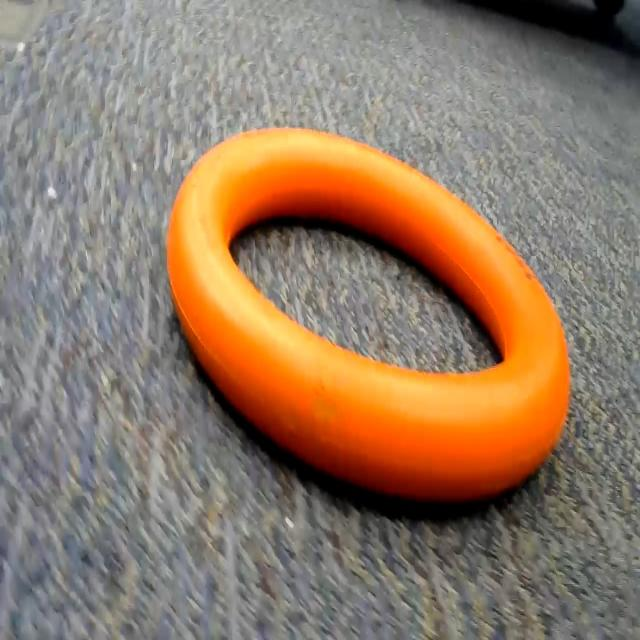note: (159, 120, 574, 518)
